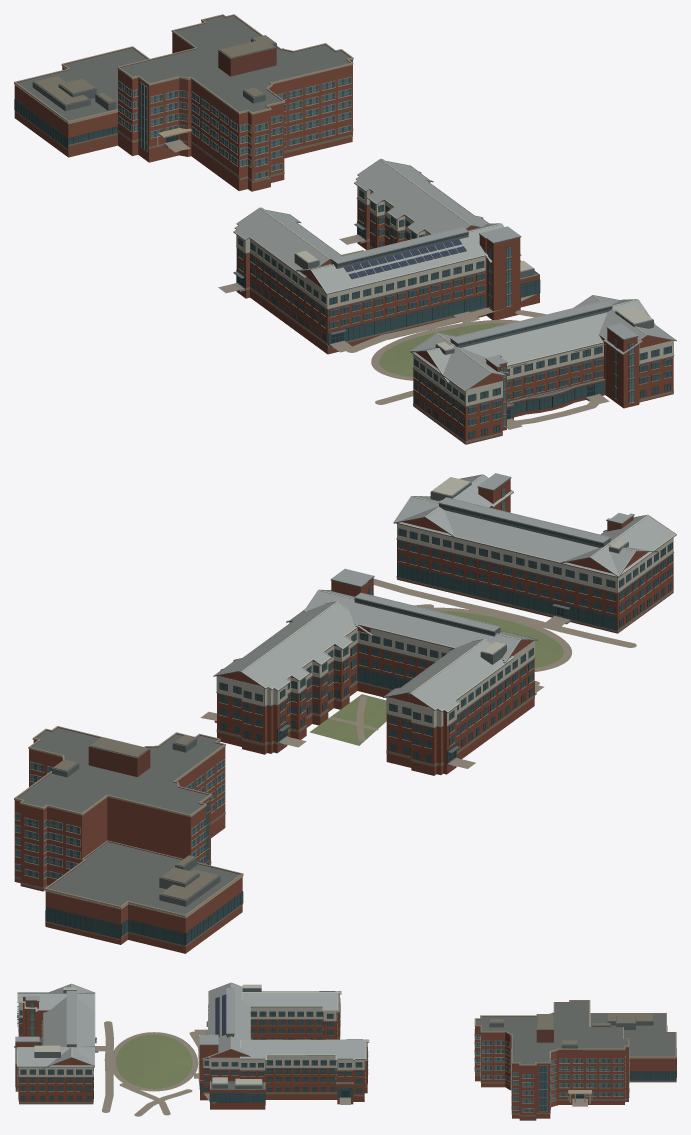
Rendered from site.glb.
3 renders of one model, top to bottom at view 1: azimuth 30°, elevation 25°; view 2: azimuth 150°, elevation 25°; view 3: azimuth 270°, elevation 25°, orthographic. The views are drawn at different scales.
Visible parts, largest first — view 1: roof-2cd1068b, roof-d2f88f9e, roof-453966d5, carson-llc-grounds; view 2: roof-2cd1068b, roof-d2f88f9e, roof-453966d5, carson-llc-grounds; view 3: roof-d2f88f9e, roof-2cd1068b, roof-453966d5, carson-llc-grounds.
Part boxes in pixels (x1,y1,x2,y2): roof-2cd1068b: [14, 14, 353, 191]; roof-d2f88f9e: [233, 158, 540, 354]; roof-453966d5: [410, 295, 676, 444]; carson-llc-grounds: [164, 139, 609, 429]; roof-2cd1068b: [14, 726, 243, 953]; roof-d2f88f9e: [213, 568, 538, 775]; roof-453966d5: [393, 473, 676, 633]; carson-llc-grounds: [200, 578, 636, 768]; roof-d2f88f9e: [199, 982, 369, 1109]; roof-2cd1068b: [474, 1000, 676, 1120]; roof-453966d5: [14, 983, 96, 1104]; carson-llc-grounds: [95, 1021, 587, 1116].
Size of the model in its own units: 72.84 by 24.41 by 214.
